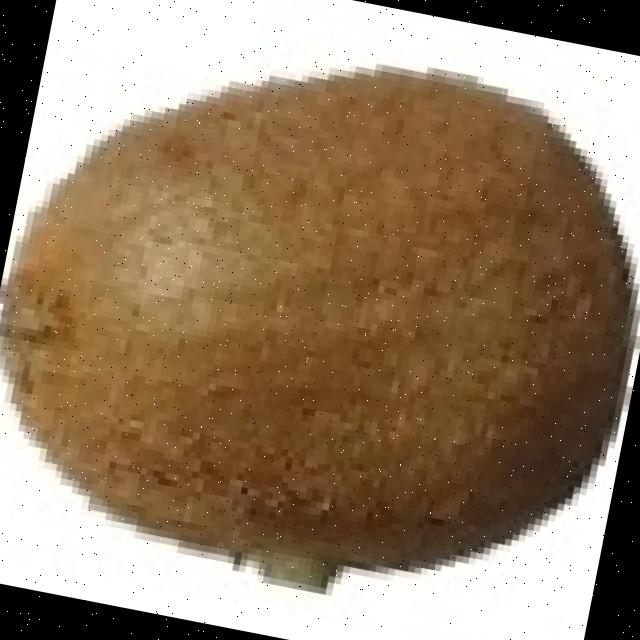kiwi: (0, 61, 623, 574)
